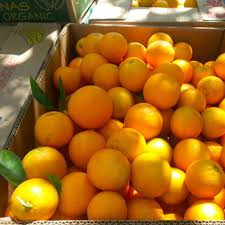orange: (11, 178, 59, 222), (67, 85, 114, 129), (129, 151, 172, 197), (86, 148, 130, 188), (20, 144, 66, 182), (123, 100, 163, 142), (32, 108, 74, 148), (143, 70, 182, 108), (185, 159, 223, 198), (97, 30, 126, 62)
